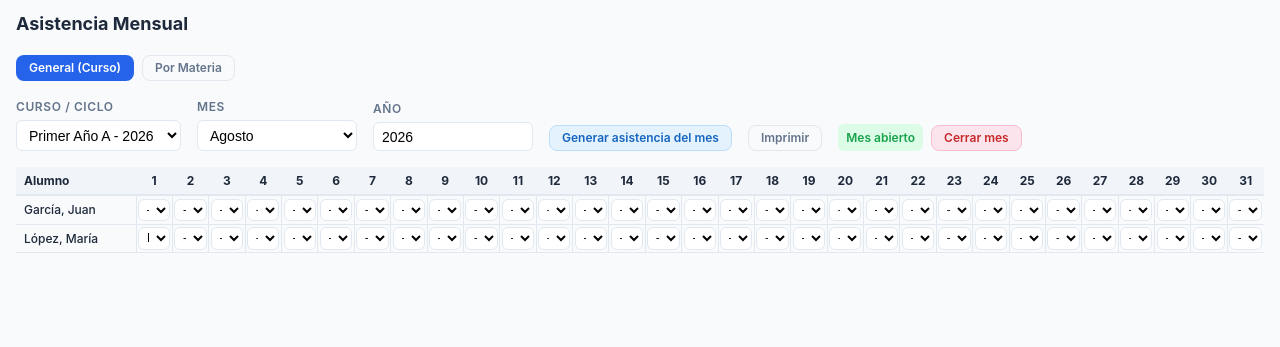
Test: AsistenciaMensualPage › WM-14: el cartel de error de Generar se limpia al cambiar de mes (no queda pegado)
Click the button with test id "btn-generar" at coordinates (640, 138), box [549,125,732,151]
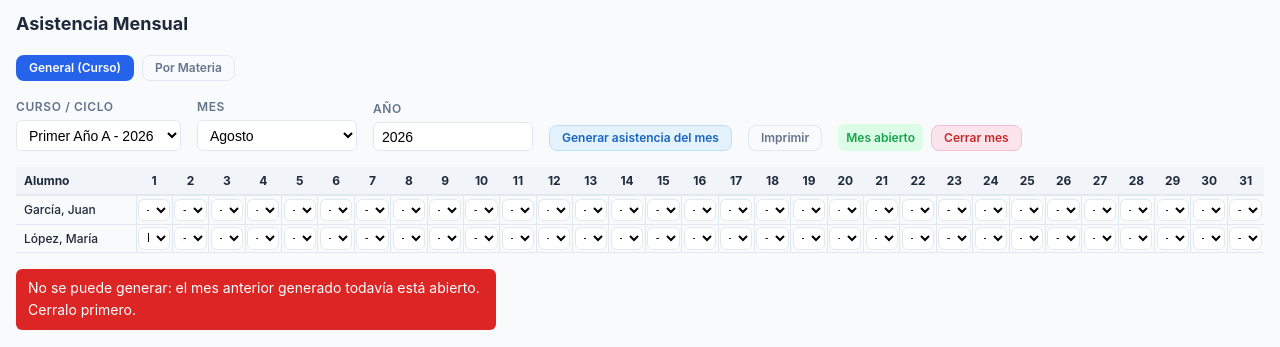
expect the text "el mes anterior generado todavía está abierto" is shown: met, box [28,279,480,318]
Note: Cambiar de mes debe limpiar el cartel (vive solo hasta el próximo cambio de contexto).
Select "Enero" in the dropdown with test id "month-selector" at coordinates (277, 136), box [197,120,357,151]
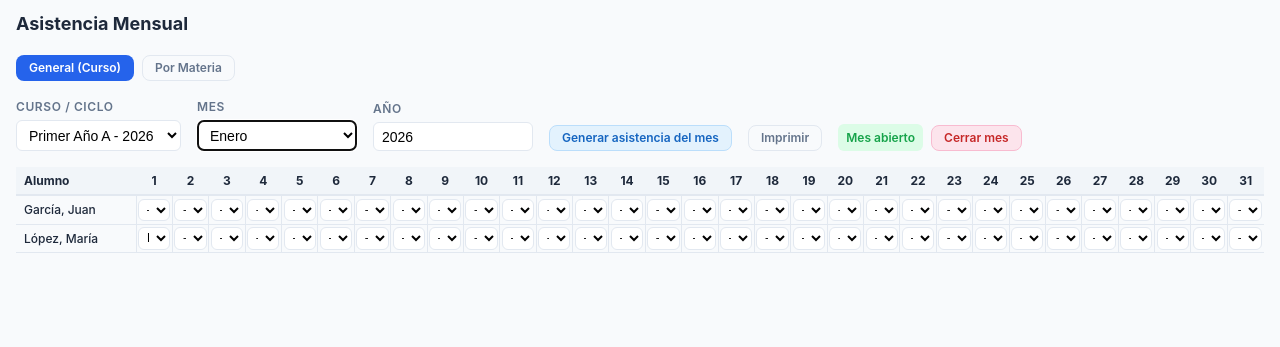
expect the text "el mes anterior generado todavía está abierto" is gone: met
